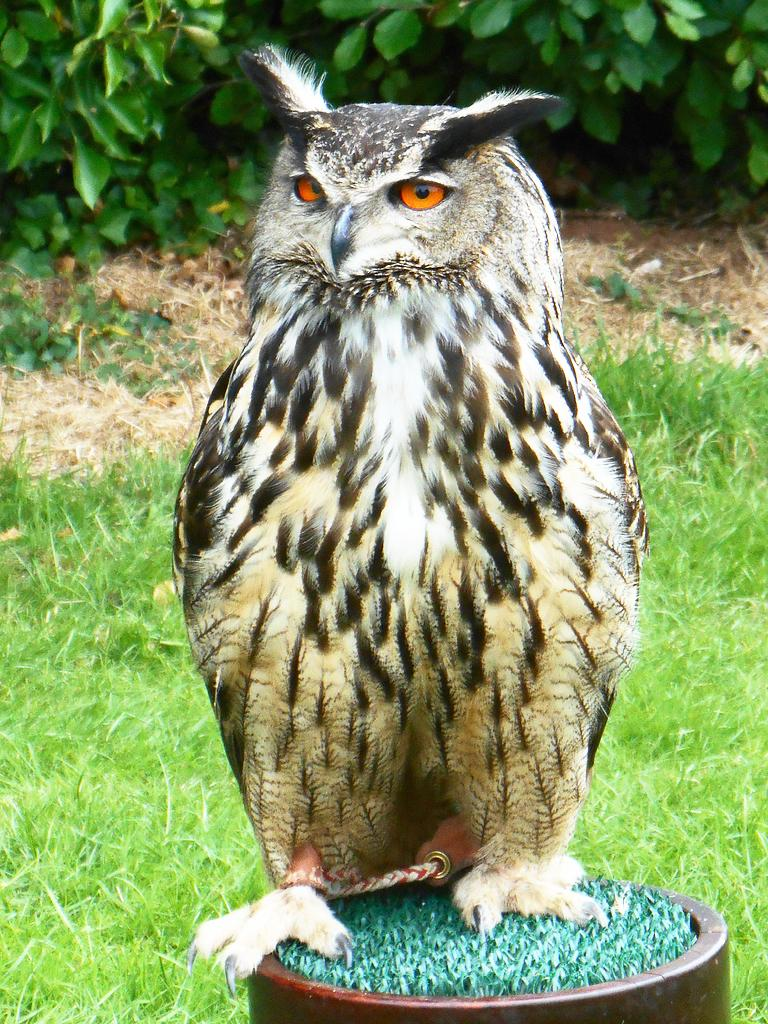Owl: (166, 41, 654, 1000)
